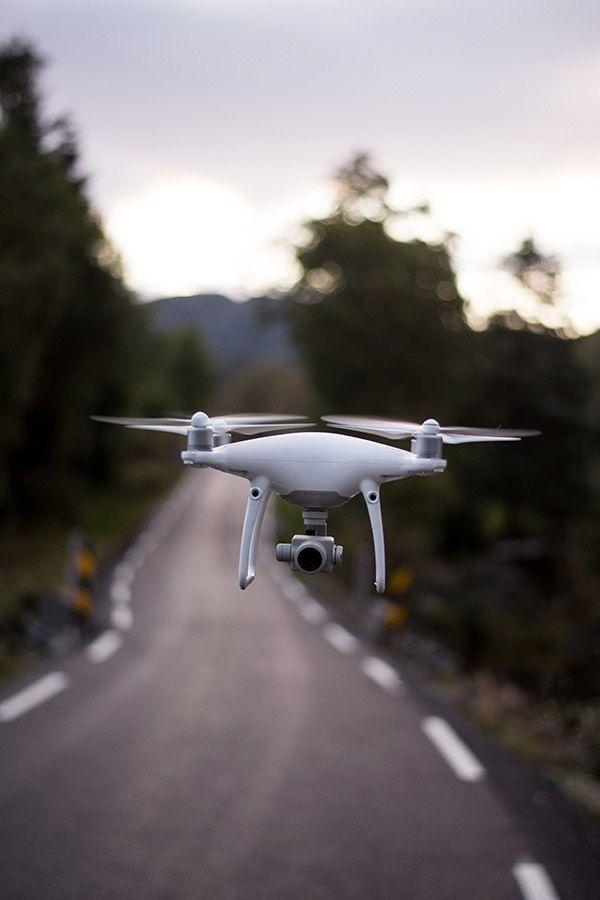drone_other: (89, 406, 539, 594)
